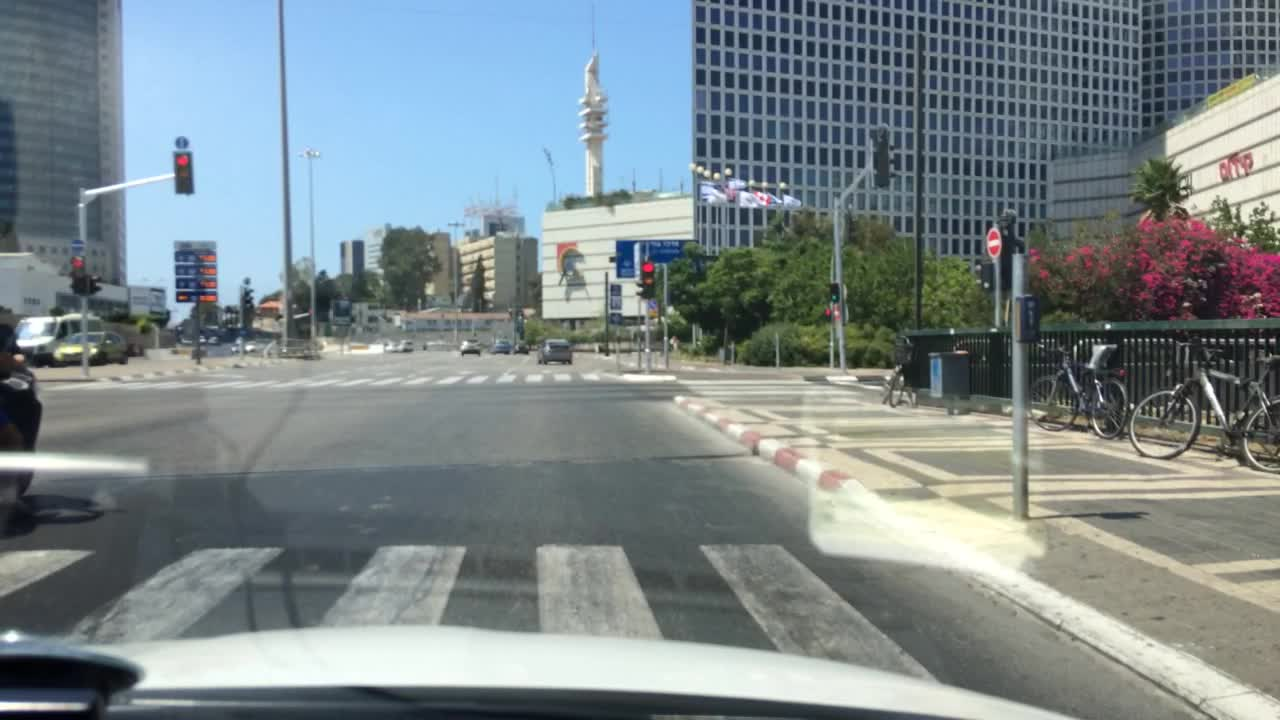bike: (1125, 341, 1278, 473), (1027, 344, 1130, 438), (881, 335, 920, 406)
car: (0, 318, 45, 528), (954, 335, 1092, 391), (1071, 339, 1198, 394), (13, 312, 84, 366), (54, 330, 130, 365), (277, 336, 323, 362), (536, 336, 573, 366), (458, 338, 482, 359), (383, 336, 412, 352), (230, 339, 258, 354), (492, 337, 512, 356), (514, 338, 529, 355), (205, 334, 222, 346), (178, 334, 193, 345), (195, 333, 205, 344)
traffic light: (173, 150, 194, 193), (875, 142, 891, 188), (69, 255, 85, 295), (639, 263, 656, 298), (85, 272, 102, 297), (828, 280, 840, 304), (825, 307, 831, 321)
traffic sign: (616, 239, 697, 279), (175, 290, 222, 303), (173, 239, 215, 253), (174, 262, 218, 275), (983, 225, 1000, 255), (174, 276, 216, 288), (173, 251, 216, 261), (173, 135, 191, 149), (875, 119, 888, 138), (647, 299, 658, 319), (608, 295, 623, 309), (610, 311, 623, 326), (608, 282, 621, 296)
